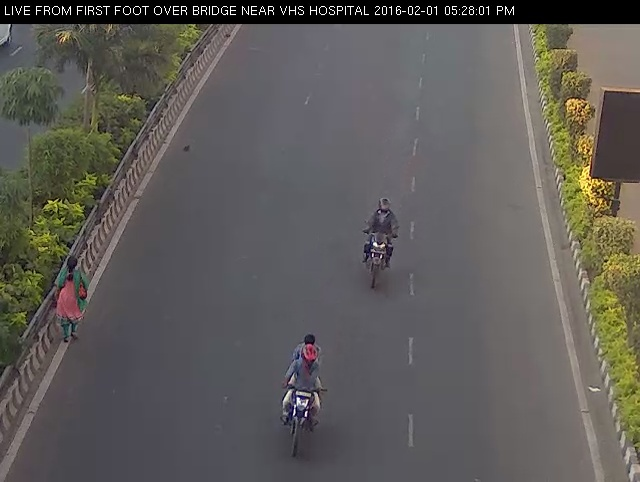Person: (274, 329, 333, 466), (46, 245, 93, 347), (360, 195, 401, 295)
